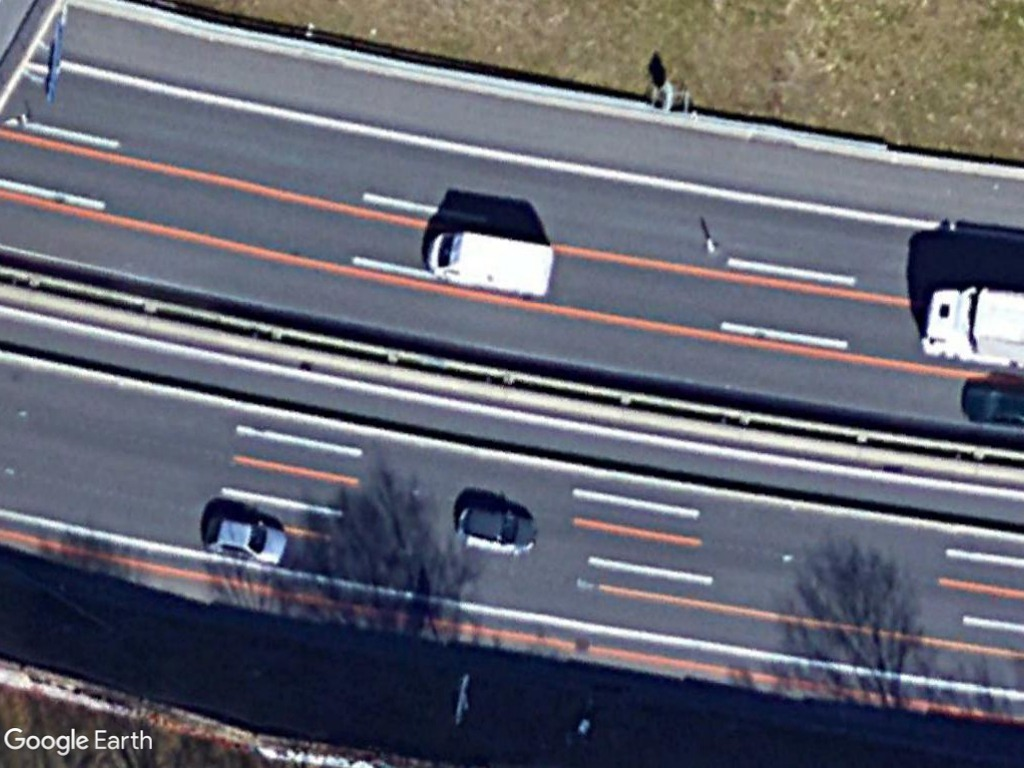car: (452, 503, 541, 557), (202, 511, 289, 564)
van: (428, 229, 555, 299)
